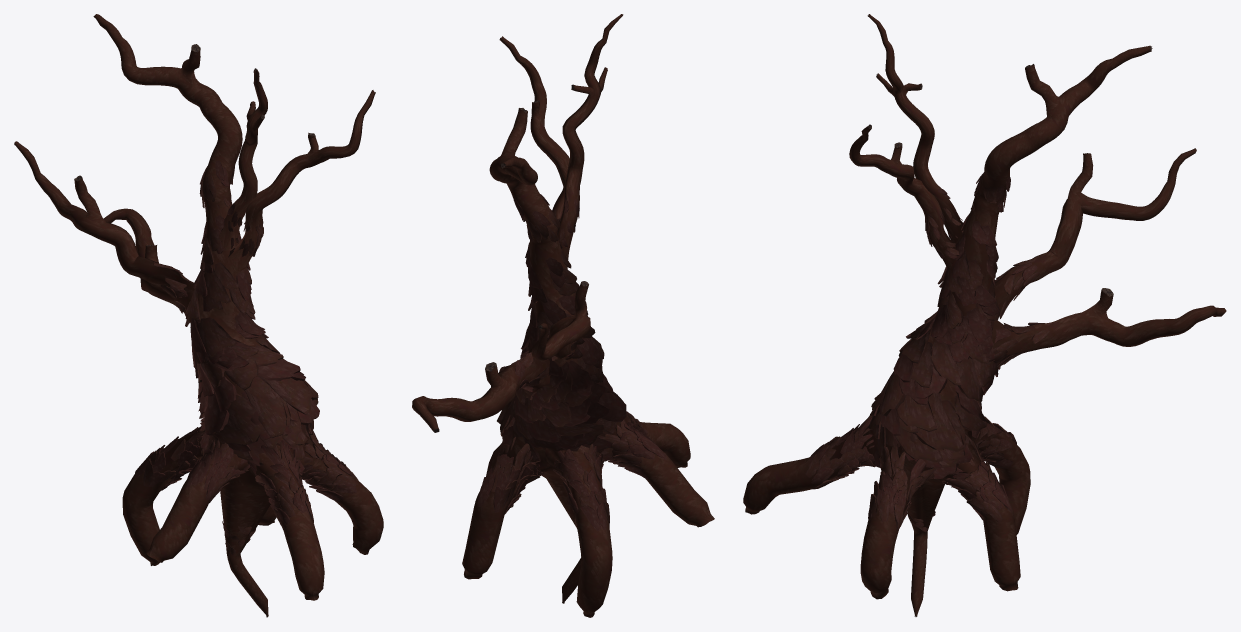
3 views of the same model, side by side, from view 1: azimuth 30°, elevation 25°; view 2: azimuth 150°, elevation 25°; view 3: azimuth 270°, elevation 25° (orthographic). The views are drawn at different scales.
Visible parts, largest first — view 1: SM_GF_SwampTree_02_LOD0; view 2: SM_GF_SwampTree_02_LOD0; view 3: SM_GF_SwampTree_02_LOD0.
Part boxes in pixels (x1,y1,x2,y2): SM_GF_SwampTree_02_LOD0: (14,14,383,617); SM_GF_SwampTree_02_LOD0: (412,14,714,617); SM_GF_SwampTree_02_LOD0: (743,14,1226,616).
Bounding box in the file's own units: 8.49 × 20.37 × 15.21.
1 material, 1 textured.
